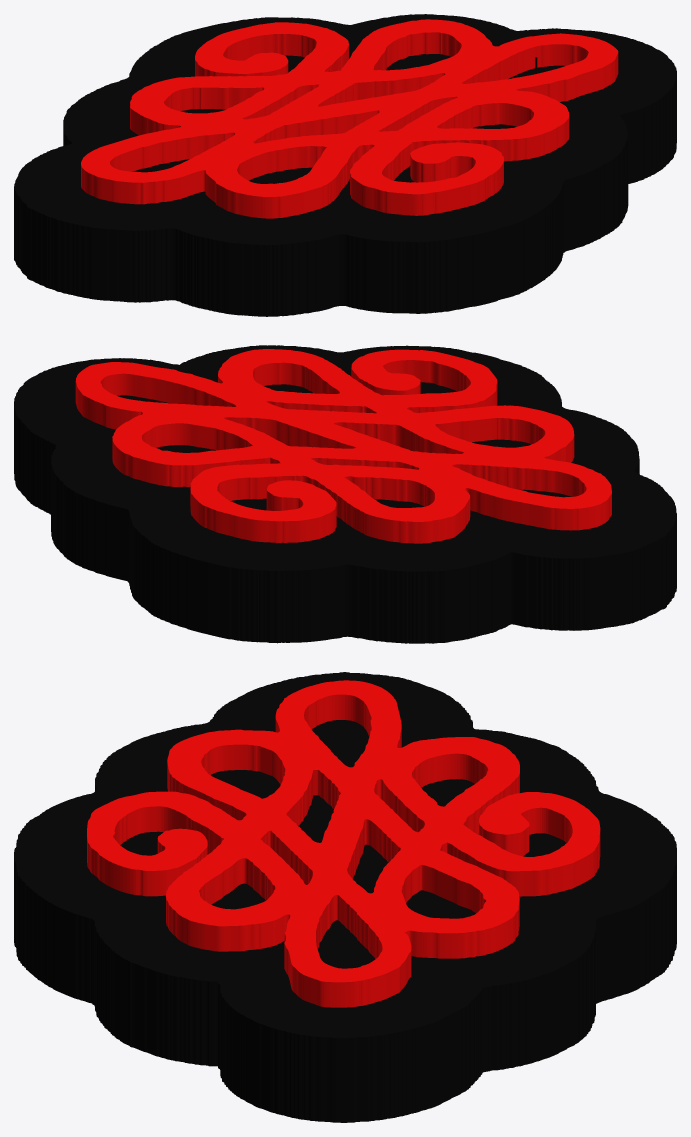
File: Reversal.glb
3 renders of one model, top to bottom at view 1: azimuth 30°, elevation 25°; view 2: azimuth 150°, elevation 25°; view 3: azimuth 270°, elevation 25°, orthographic. The views are drawn at different scales.
Visible parts, largest first — view 1: reversal-out, reversal-in; view 2: reversal-out, reversal-in; view 3: reversal-out, reversal-in.
Part boxes in pixels (x1,y1,x2,y2): reversal-out: (14, 14, 676, 316); reversal-in: (81, 19, 618, 218); reversal-out: (14, 345, 676, 643); reversal-in: (75, 349, 611, 543); reversal-out: (14, 672, 676, 1122); reversal-in: (87, 680, 600, 1007).
Bounding box in the file's own units: 0.9275 × 0.13 × 0.7099.
